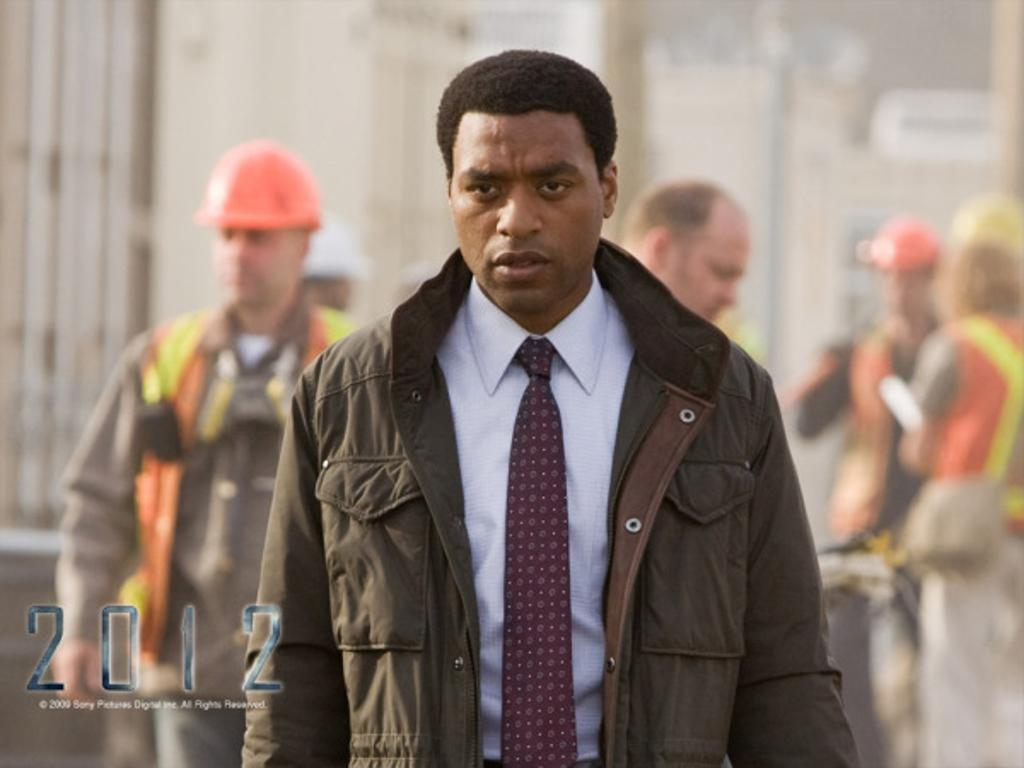face: (454, 112, 604, 306), (676, 212, 746, 330), (210, 210, 278, 310)
